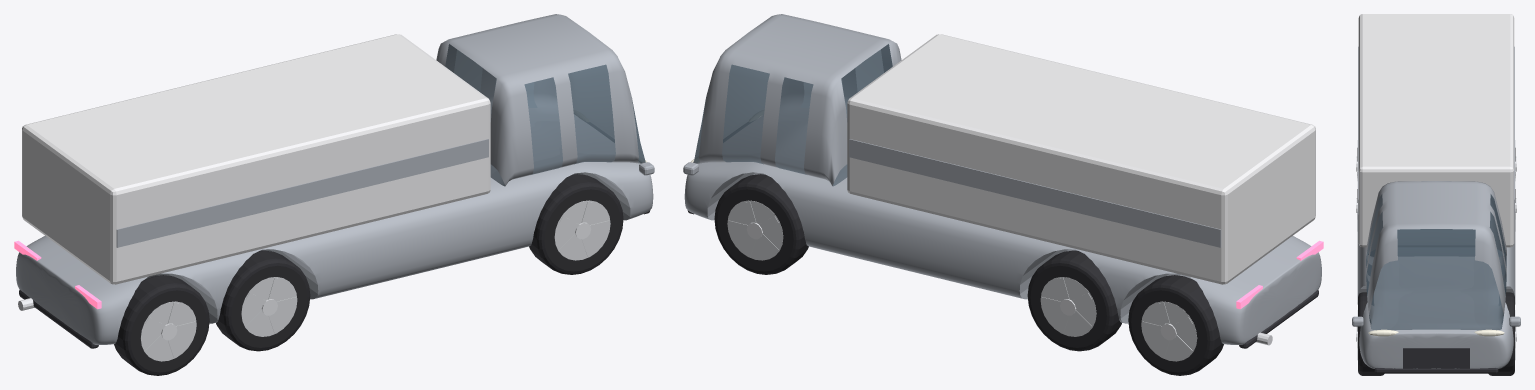
File: iron_hauler.fbx
3 renders of one model, left to right at view 1: azimuth 30°, elevation 25°; view 2: azimuth 150°, elevation 25°; view 3: azimuth 270°, elevation 25°, orthographic. The views are drawn at different scales.
Visible parts, largest first — view 1: Cargo, Body.009, Tire.009, Glass.009, Rim.009, Chrome.009; view 2: Cargo, Body.009, Tire.009, Glass.009, Rim.009, Chrome.009; view 3: Cargo, Body.009, Glass.009, Trim.009, Tire.009, HeadLight.009, Rim.009, Chrome.009.
Boxes of the visible parts, x1=… form: Cargo: x1=22, y1=34, x2=490, y2=284; Body.009: x1=16, y1=14, x2=654, y2=344; Tire.009: x1=114, y1=174, x2=623, y2=375; Glass.009: x1=445, y1=44, x2=645, y2=186; Rim.009: x1=140, y1=200, x2=610, y2=361; Chrome.009: x1=18, y1=222, x2=591, y2=340; Cargo: x1=847, y1=34, x2=1315, y2=284; Body.009: x1=683, y1=14, x2=1321, y2=344; Tire.009: x1=714, y1=174, x2=1223, y2=375; Glass.009: x1=693, y1=44, x2=892, y2=186; Rim.009: x1=727, y1=200, x2=1197, y2=361; Chrome.009: x1=746, y1=222, x2=1272, y2=345; Cargo: x1=1358, y1=14, x2=1514, y2=247; Body.009: x1=1352, y1=46, x2=1520, y2=368; Glass.009: x1=1366, y1=194, x2=1506, y2=330; Trim.009: x1=1374, y1=348, x2=1498, y2=373; Tire.009: x1=1358, y1=292, x2=1514, y2=375; HeadLight.009: x1=1368, y1=329, x2=1504, y2=336; Rim.009: x1=1357, y1=140, x2=1515, y2=360; Chrome.009: x1=1356, y1=156, x2=1516, y2=341.
Bounding box in the file's own units: 2660 × 880 × 807.
